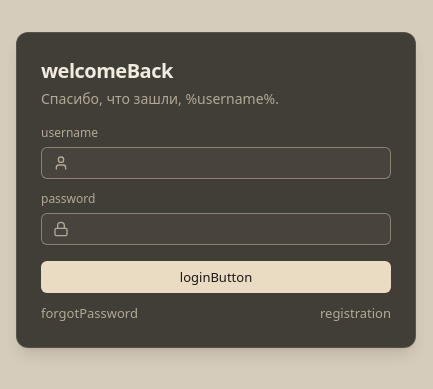
Test: Login outcomes › explains a 403 saying user not active
Type "reader" into the field labelled "username".
click(216, 163); type("reader")  # box x1=41 y1=147 x2=391 y2=179
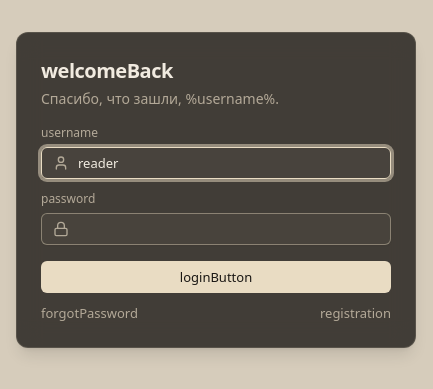
Type "secret" into the password field labelled "password".
click(216, 229); type("secret")  # box x1=41 y1=213 x2=391 y2=245
Then press Enter
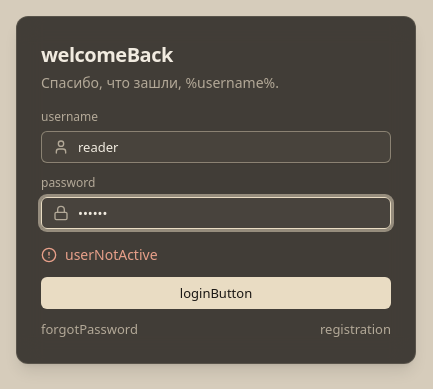
Now the message reads "userNotActive", box x1=65 y1=245 x2=158 y2=264
